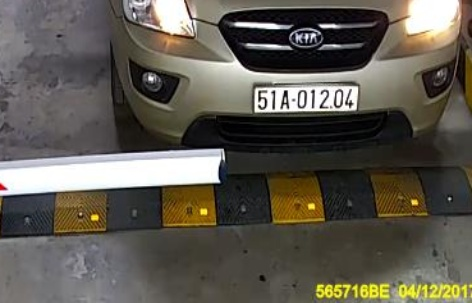plate: (250, 80, 364, 117)
